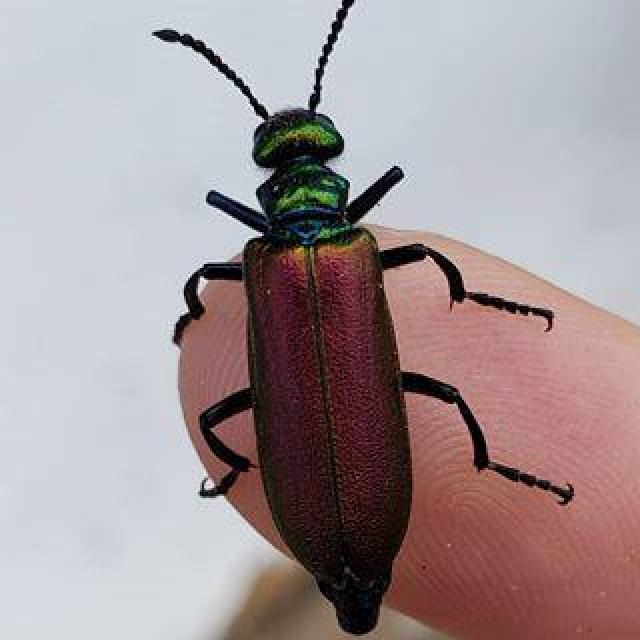BlisterBeetle-Adult-: (139, 8, 573, 629)
